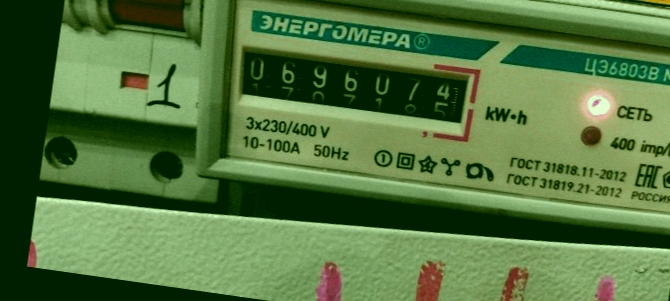0: (246, 53, 268, 81), (372, 68, 392, 96)
4: (434, 76, 453, 100)
5: (431, 99, 449, 121)
6: (340, 64, 361, 93), (277, 57, 299, 84)
7: (403, 74, 423, 102)
9: (309, 60, 329, 88)
screen: (223, 31, 485, 146)
